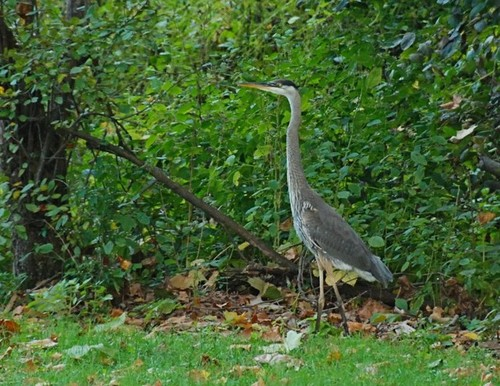heron: (228, 72, 392, 331)
